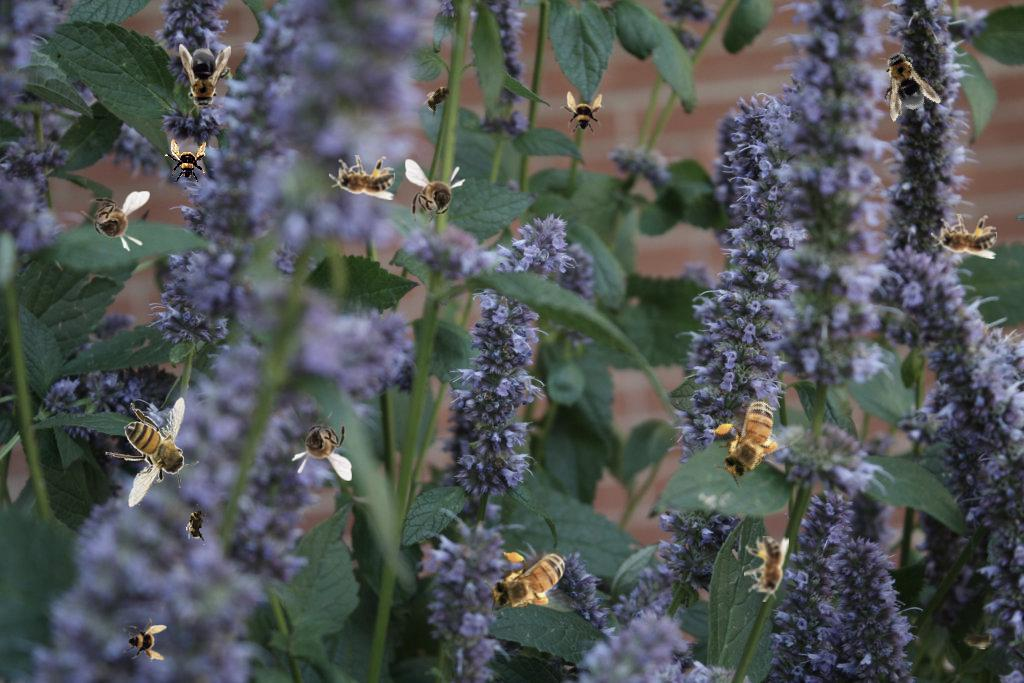Bee: (694, 383, 810, 494), (105, 397, 199, 508), (866, 40, 942, 124), (485, 548, 578, 616), (291, 411, 352, 481), (80, 191, 150, 252), (405, 159, 466, 229), (179, 44, 231, 112), (744, 536, 789, 602), (931, 214, 997, 259), (329, 155, 395, 200), (416, 76, 462, 120), (164, 139, 208, 183), (560, 91, 604, 135), (123, 618, 167, 662), (183, 502, 211, 546), (958, 628, 998, 650)
